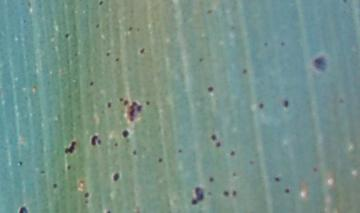tarspot: (308, 54, 328, 73), (189, 185, 205, 205), (129, 98, 139, 121), (63, 140, 77, 156), (88, 134, 101, 146), (121, 128, 131, 142), (111, 170, 121, 183), (15, 204, 29, 213), (281, 98, 289, 110), (143, 98, 152, 108), (137, 47, 146, 56), (206, 175, 215, 184), (206, 84, 214, 94), (214, 140, 222, 150), (155, 156, 165, 164), (63, 31, 71, 41), (131, 146, 138, 157), (121, 98, 130, 106), (337, 96, 345, 105), (246, 159, 256, 166), (257, 101, 265, 109), (228, 148, 236, 156), (209, 133, 217, 141), (83, 190, 91, 198), (310, 166, 318, 174), (16, 160, 24, 168), (205, 7, 213, 15), (222, 189, 229, 198), (230, 189, 237, 198), (88, 79, 95, 88), (241, 67, 248, 76), (126, 24, 133, 33), (206, 189, 213, 198), (197, 56, 204, 65), (273, 176, 280, 184), (283, 187, 290, 195), (262, 40, 270, 47), (176, 147, 183, 155), (65, 163, 72, 171), (38, 169, 46, 176), (113, 140, 120, 148), (230, 170, 237, 178), (105, 100, 111, 109), (278, 40, 285, 47), (96, 1, 103, 7), (51, 182, 57, 189), (104, 51, 111, 57), (94, 22, 100, 29), (103, 209, 113, 213), (114, 56, 119, 63), (118, 96, 124, 101), (340, 1, 347, 4)
